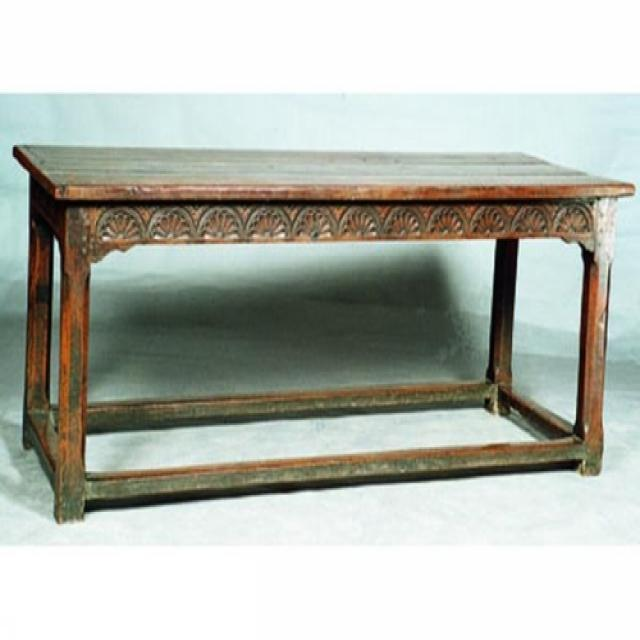table: (7, 137, 638, 528)
